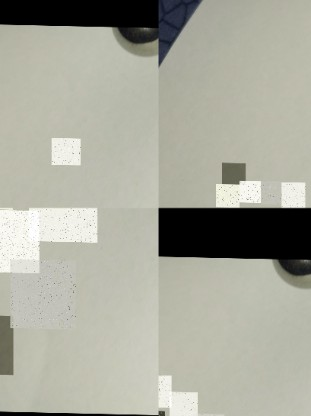ironball: (10, 258, 75, 328), (0, 208, 39, 272), (29, 208, 97, 241), (110, 25, 160, 61), (272, 259, 309, 294), (51, 136, 80, 163), (0, 314, 13, 374), (170, 390, 198, 415), (282, 181, 306, 207), (216, 183, 240, 206), (222, 162, 246, 183), (240, 179, 261, 202), (262, 179, 282, 203), (158, 374, 171, 406)
